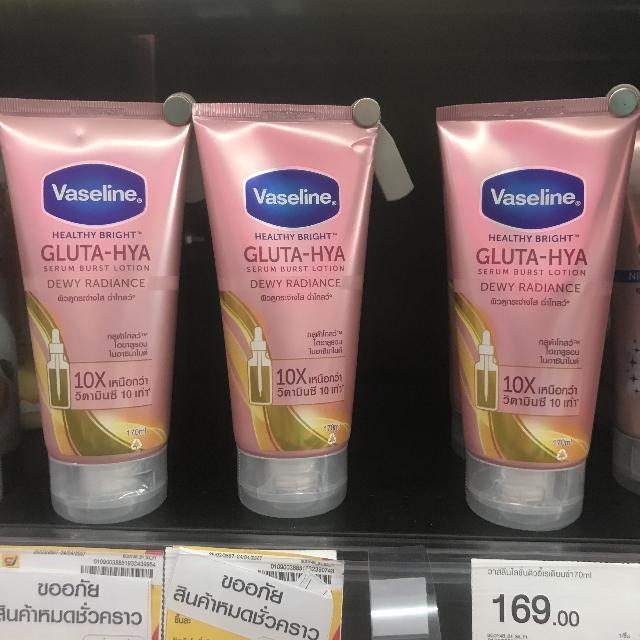Squeeze Tube: (183, 82, 399, 520), (436, 80, 636, 531), (0, 88, 198, 538)
